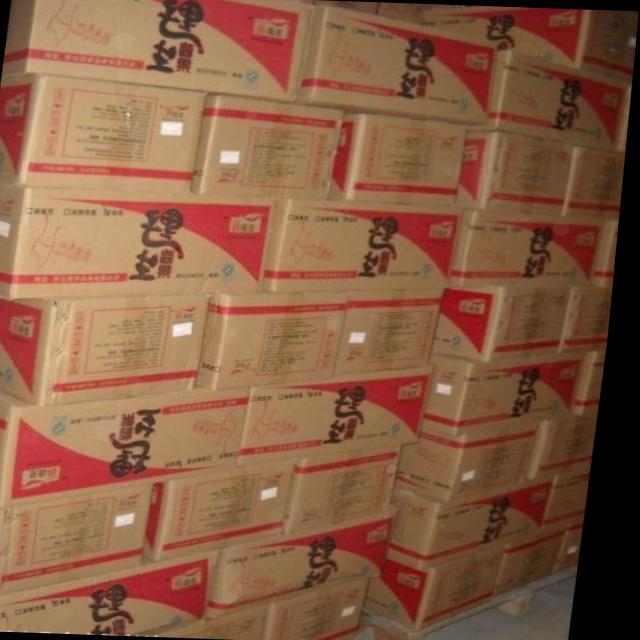box: (0, 382, 258, 508), (0, 184, 280, 299), (4, 0, 313, 103), (298, 4, 501, 127), (0, 294, 218, 408), (0, 71, 210, 189), (217, 511, 407, 621), (246, 366, 440, 468), (266, 198, 466, 293), (0, 552, 225, 636), (0, 481, 164, 596), (421, 3, 639, 81), (195, 92, 346, 200), (152, 458, 304, 562), (398, 477, 565, 571), (203, 290, 354, 389), (490, 49, 632, 152), (331, 109, 475, 206), (376, 540, 517, 632), (433, 351, 593, 432), (456, 205, 612, 288), (403, 418, 547, 501), (292, 444, 410, 536), (437, 285, 576, 363), (341, 286, 452, 377), (461, 130, 578, 215), (276, 581, 381, 640), (506, 516, 580, 599), (532, 415, 605, 481), (566, 145, 629, 219), (157, 606, 282, 639), (565, 283, 618, 352), (554, 469, 599, 522), (581, 348, 612, 416), (564, 511, 595, 573), (597, 220, 623, 288), (376, 2, 424, 24), (619, 84, 634, 153)
